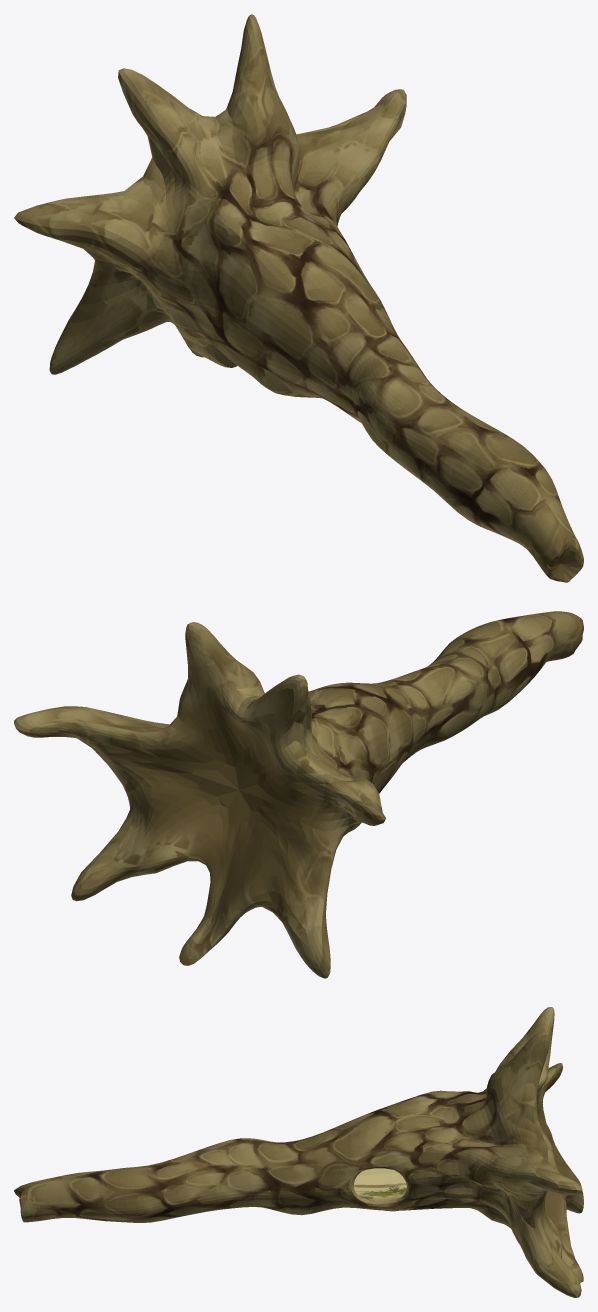
File: StartingTree.fbx
The picture shows the model from 3 angles, top to bottom: view 1: azimuth 30°, elevation 25°; view 2: azimuth 150°, elevation 25°; view 3: azimuth 270°, elevation 25°; orthographic projection. The views are drawn at different scales.
Parts seen in each view (by area): view 1: pCylinder4; view 2: pCylinder4; view 3: pCylinder4.
Boxes of the visible parts, x1,y1,x2,y2 form: pCylinder4: [14, 14, 583, 582]; pCylinder4: [14, 611, 583, 978]; pCylinder4: [14, 1007, 583, 1297].
Bounding box in the file's own units: 2587 × 2199 × 4441.
Materials: 1 (1 with a texture image).
